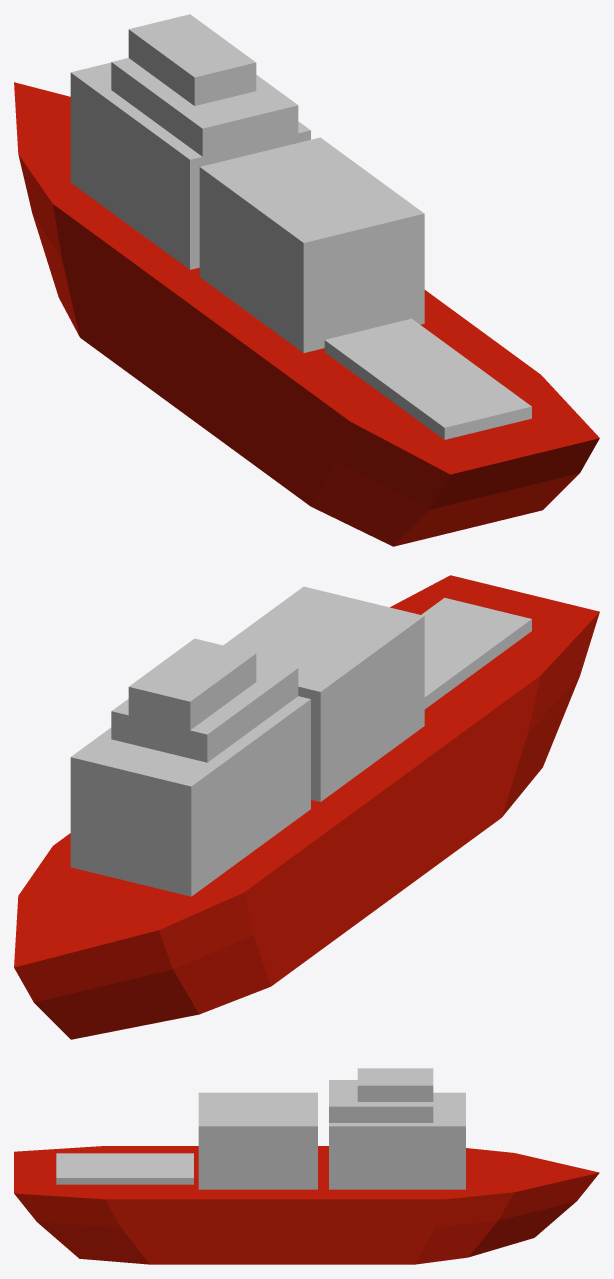
The model's file is icebreaker_01.fbx.
The picture shows the model from 3 angles, top to bottom: view 1: azimuth 30°, elevation 25°; view 2: azimuth 150°, elevation 25°; view 3: azimuth 270°, elevation 25°; orthographic projection. The views are drawn at different scales.
Visible parts, largest first — view 1: Icebreaker_01; view 2: Icebreaker_01; view 3: Icebreaker_01.
Part boxes in pixels (x1=…): Icebreaker_01: x1=14, y1=14, x2=599, y2=546; Icebreaker_01: x1=14, y1=575, x2=599, y2=1039; Icebreaker_01: x1=14, y1=1068, x2=599, y2=1264.
Size of the model in its own units: 997 by 1400 by 4619.
